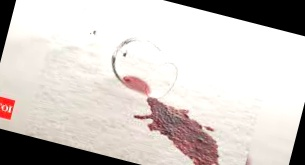wine: (127, 88, 234, 165)
